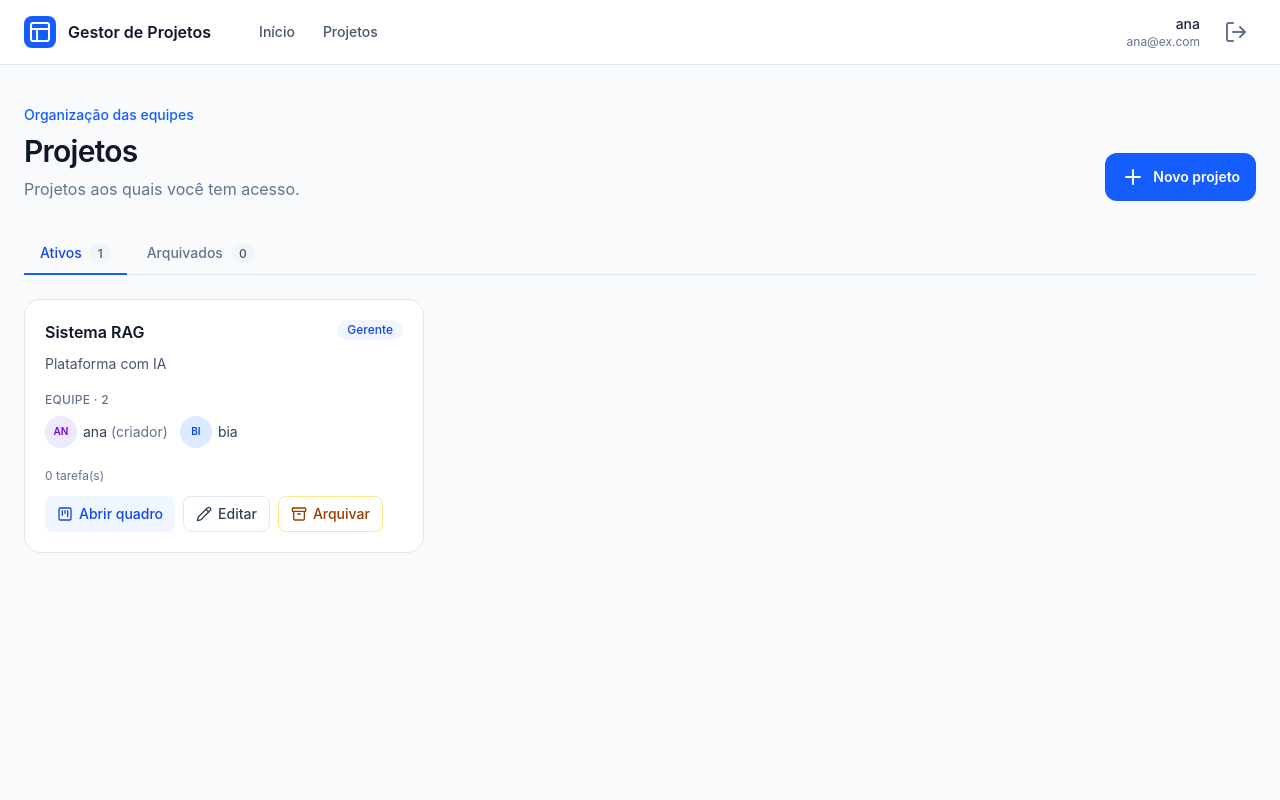
Test case: ProjectsPage › mantém o diálogo aberto e mostra o erro do backend ao falhar o arquivamento
Click the button "Arquivar".
click(330, 514)  # box [278,496,383,532]
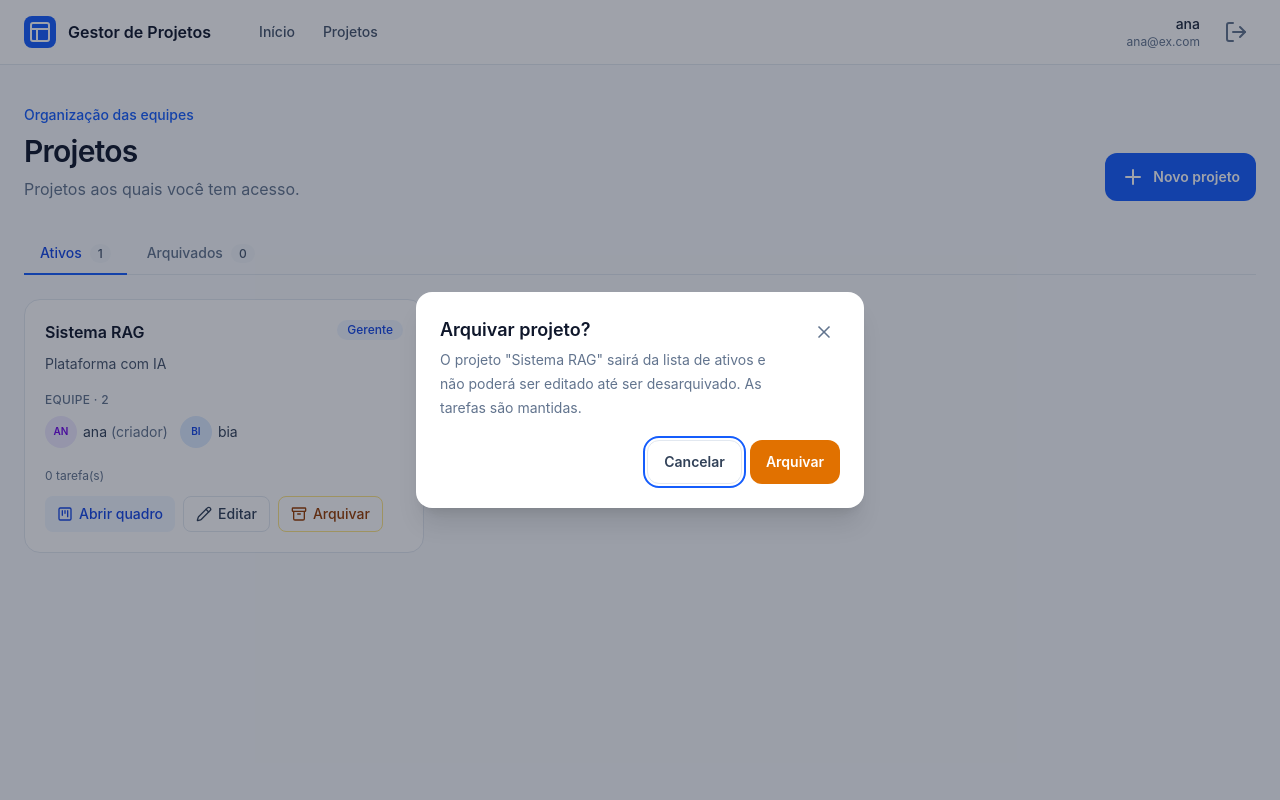
Click the button "Arquivar".
click(795, 462)  # box [750,440,840,484]
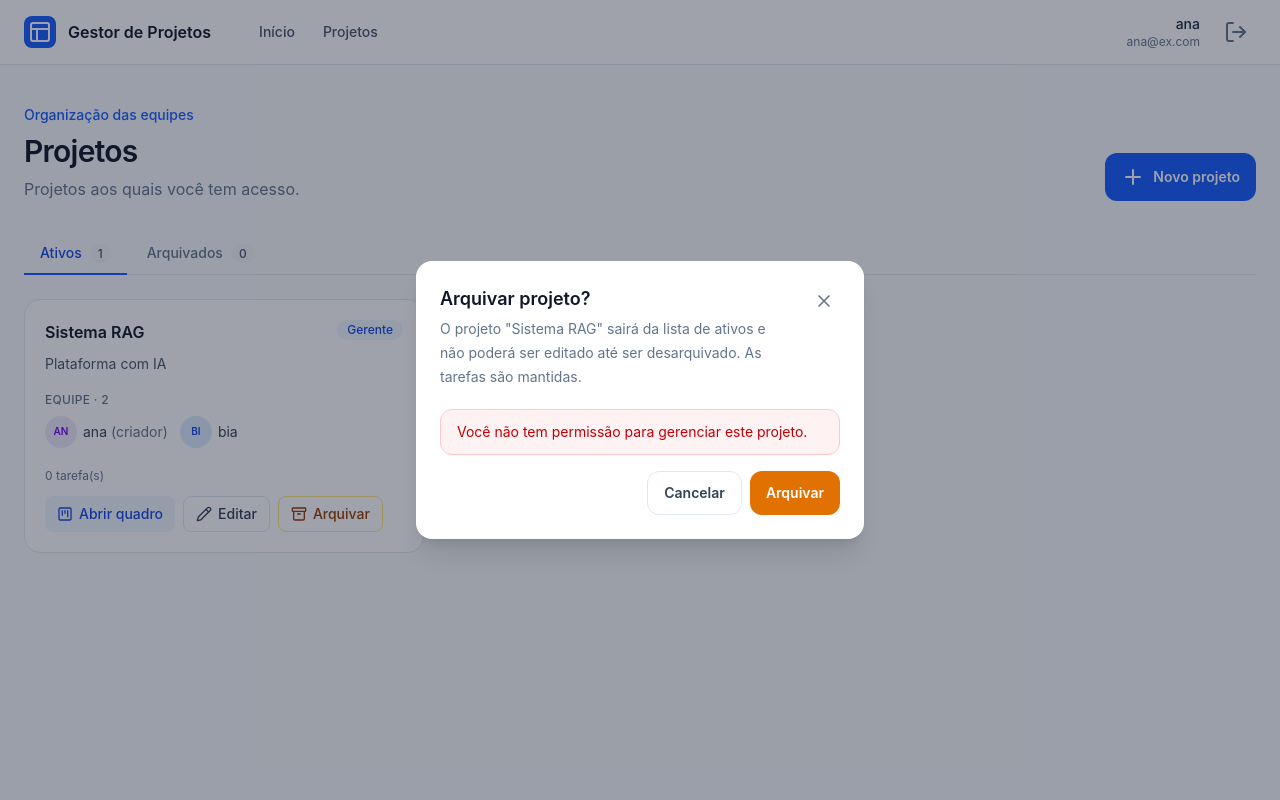
Now the message reads "Você não tem permissão para gerenciar este projeto.", box [457,423,807,440]
